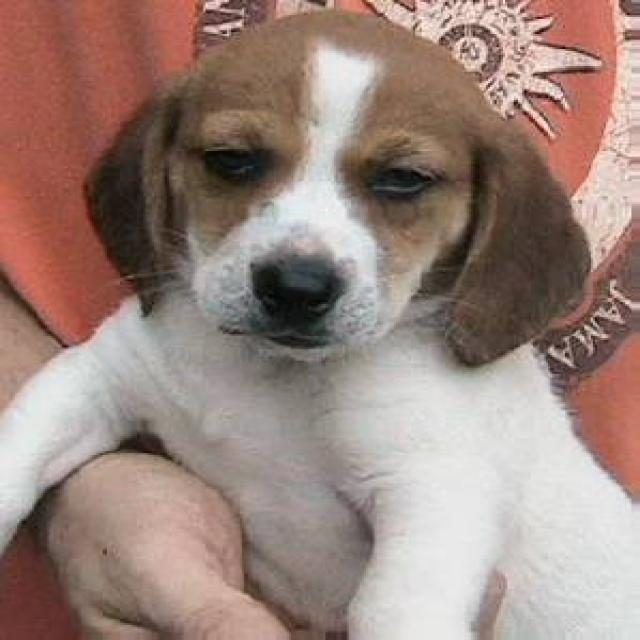dogs: (27, 7, 640, 640)
